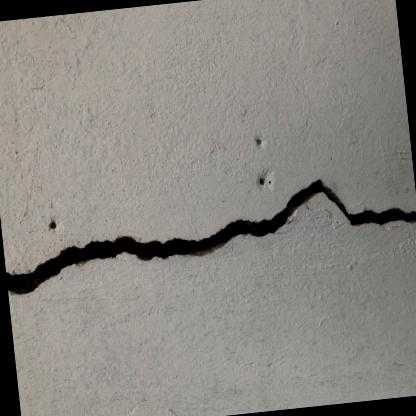crack: (5, 178, 416, 293)
